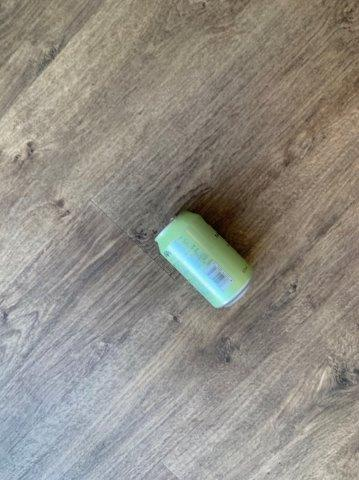kaleng: (156, 212, 250, 308)
